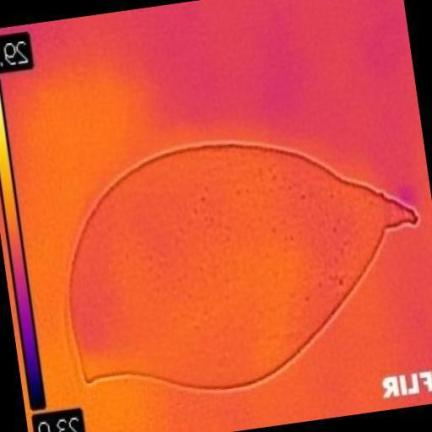mango: (70, 143, 415, 387)
